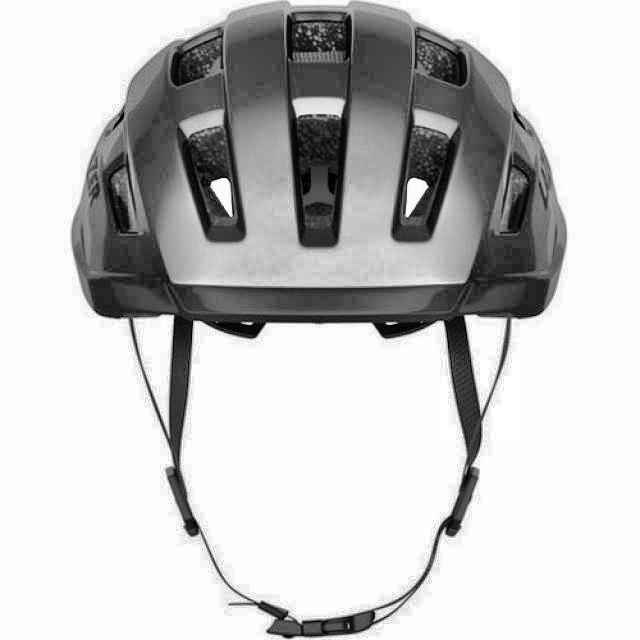Helmet: (65, 3, 574, 640)
